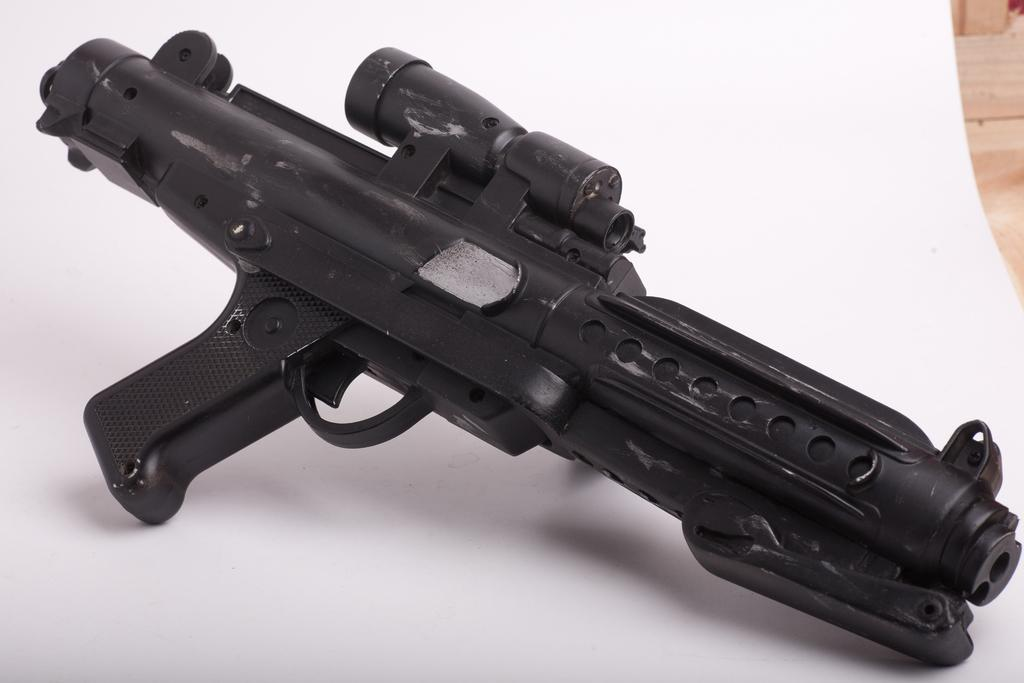Handgun: (38, 28, 1021, 667)
